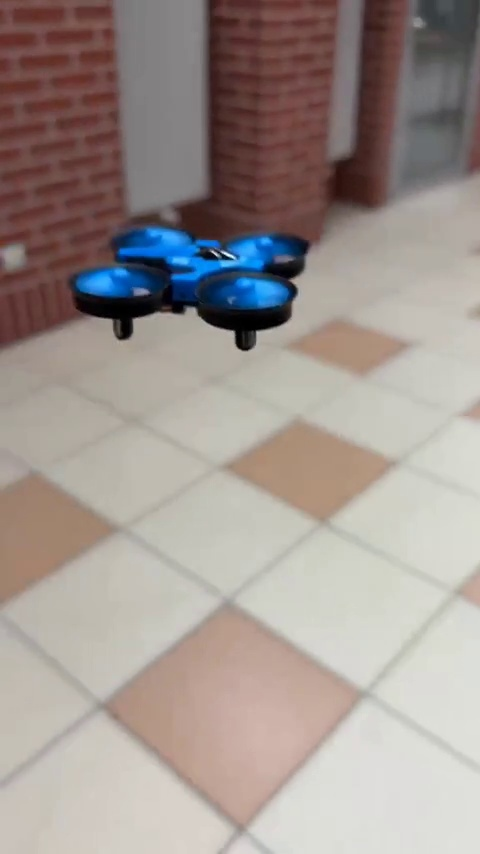drone: (68, 222, 313, 357)
